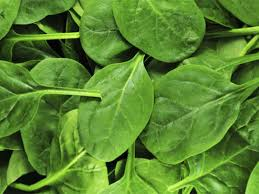spinach: (10, 50, 104, 140), (147, 63, 234, 155), (81, 67, 151, 158), (108, 4, 214, 63)
